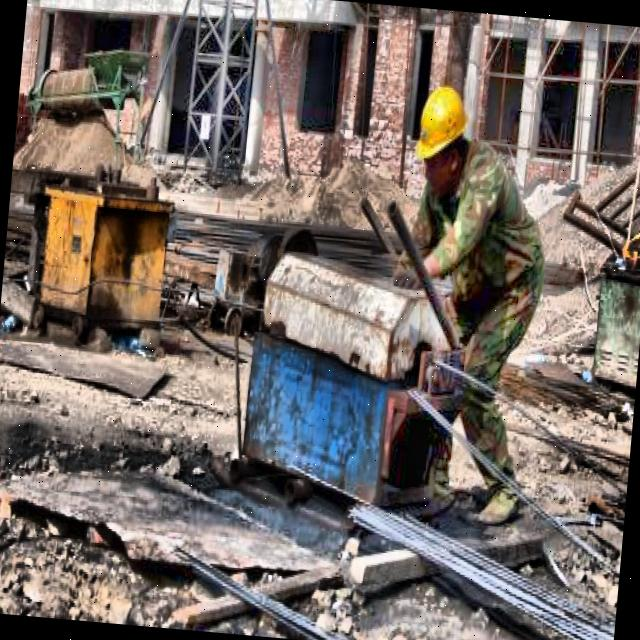helmet: (405, 72, 479, 205)
